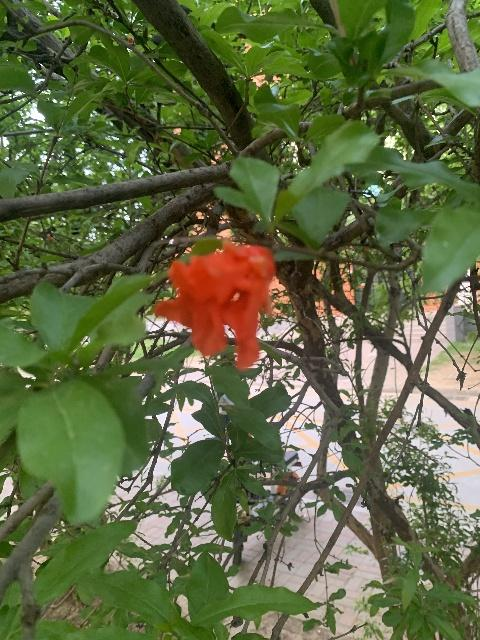flower: (153, 240, 277, 368)
